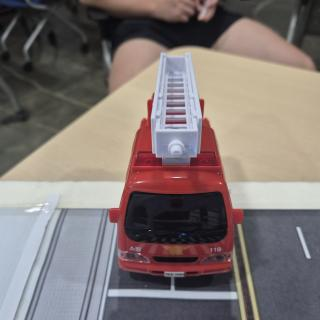Fire_truck: (109, 53, 243, 277)
